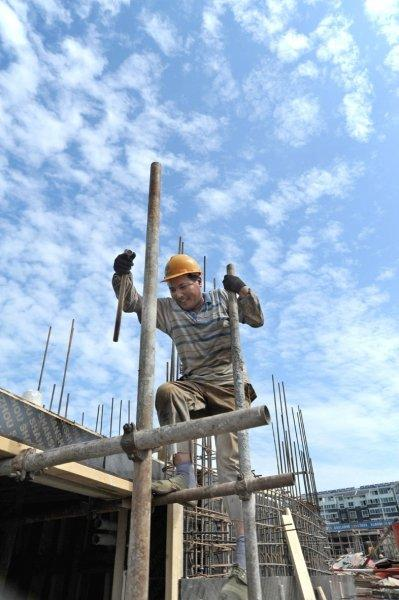helmet: (164, 254, 203, 283)
